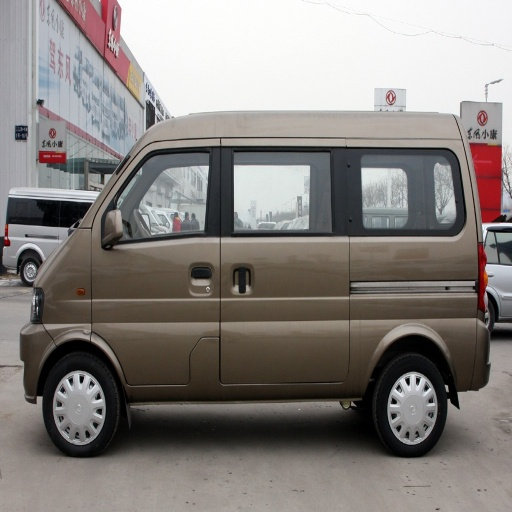back_left_door: (221, 141, 314, 375), (375, 148, 457, 202)
trunk: (354, 276, 484, 388)
